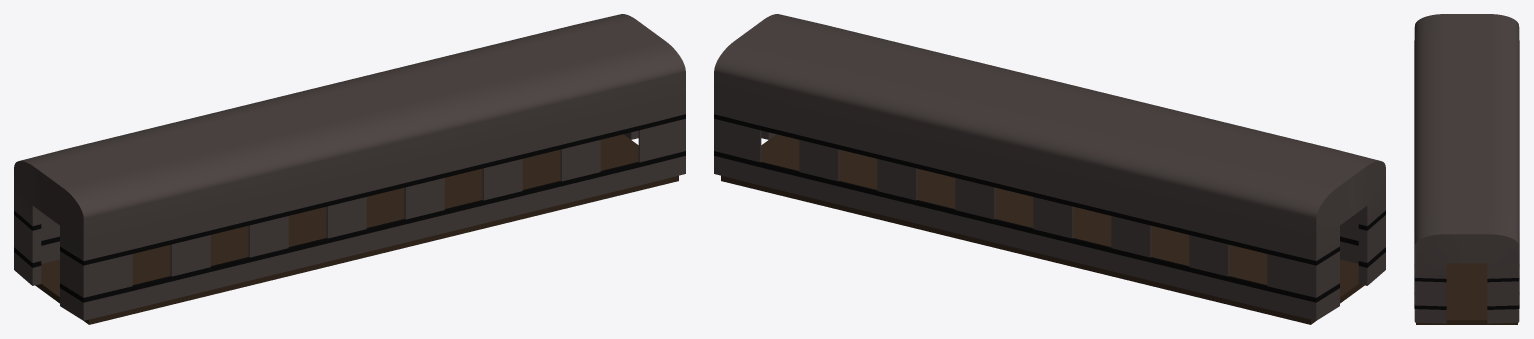
File: emptyCar.obj
3 renders of one model, left to right at view 1: azimuth 30°, elevation 25°; view 2: azimuth 150°, elevation 25°; view 3: azimuth 270°, elevation 25°, orthographic. The views are drawn at different scales.
Visible parts, largest first — view 1: Top, FloorTop; view 2: Top, FloorTop; view 3: Top, FloorTop.
Part boxes in pixels (x1,y1,x2,y2): Top: (14,14,685,320); FloorTop: (35,134,678,324); Top: (714,14,1385,320); FloorTop: (721,134,1364,324); Top: (1414,14,1519,323); FloorTop: (1416,263,1517,324).
Size of the model in its own units: 10.3 by 2.02 by 2.06.
